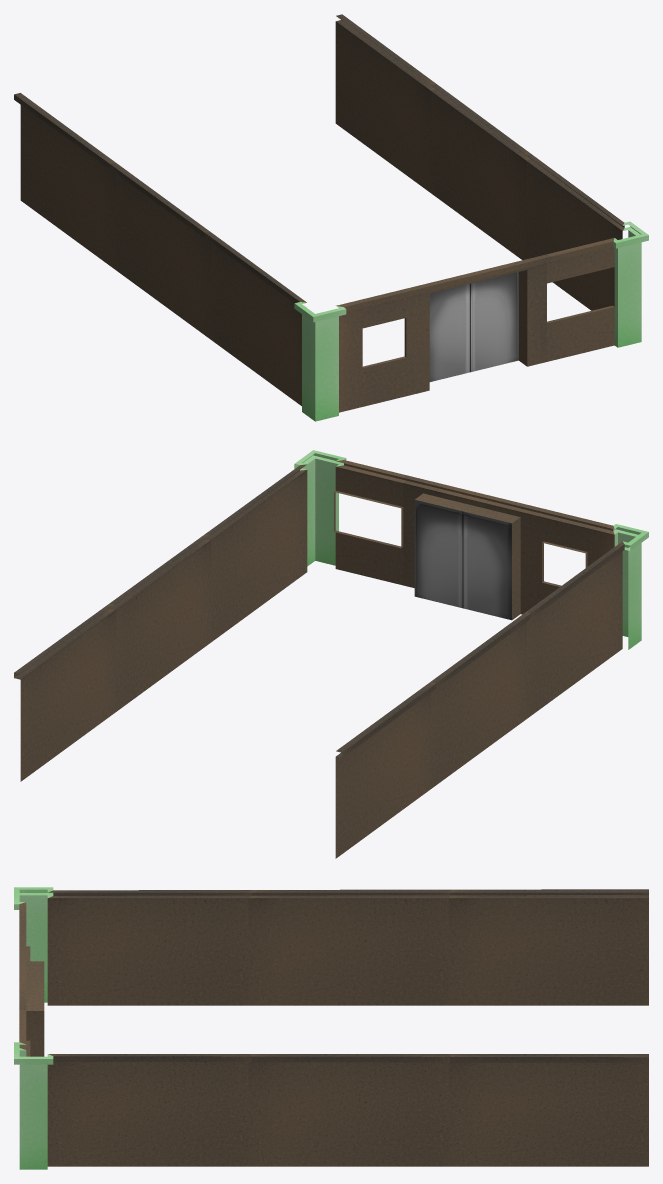
Rendered from Predio10m_Saguao.FBX.
3 views of the same model, one above another, from view 1: azimuth 30°, elevation 25°; view 2: azimuth 150°, elevation 25°; view 3: azimuth 270°, elevation 25° (orthographic). The views are drawn at different scales.
Parts seen in each view (by area): view 1: Predio10m_Saguao; view 2: Predio10m_Saguao; view 3: Predio10m_Saguao.
Boxes of the visible parts, x1=… form: Predio10m_Saguao: x1=14, y1=14, x2=648, y2=421; Predio10m_Saguao: x1=14, y1=450, x2=648, y2=858; Predio10m_Saguao: x1=14, y1=887, x2=648, y2=1169.
Size of the model in its own units: 979 by 300 by 1530.
1 material, 1 textured.
